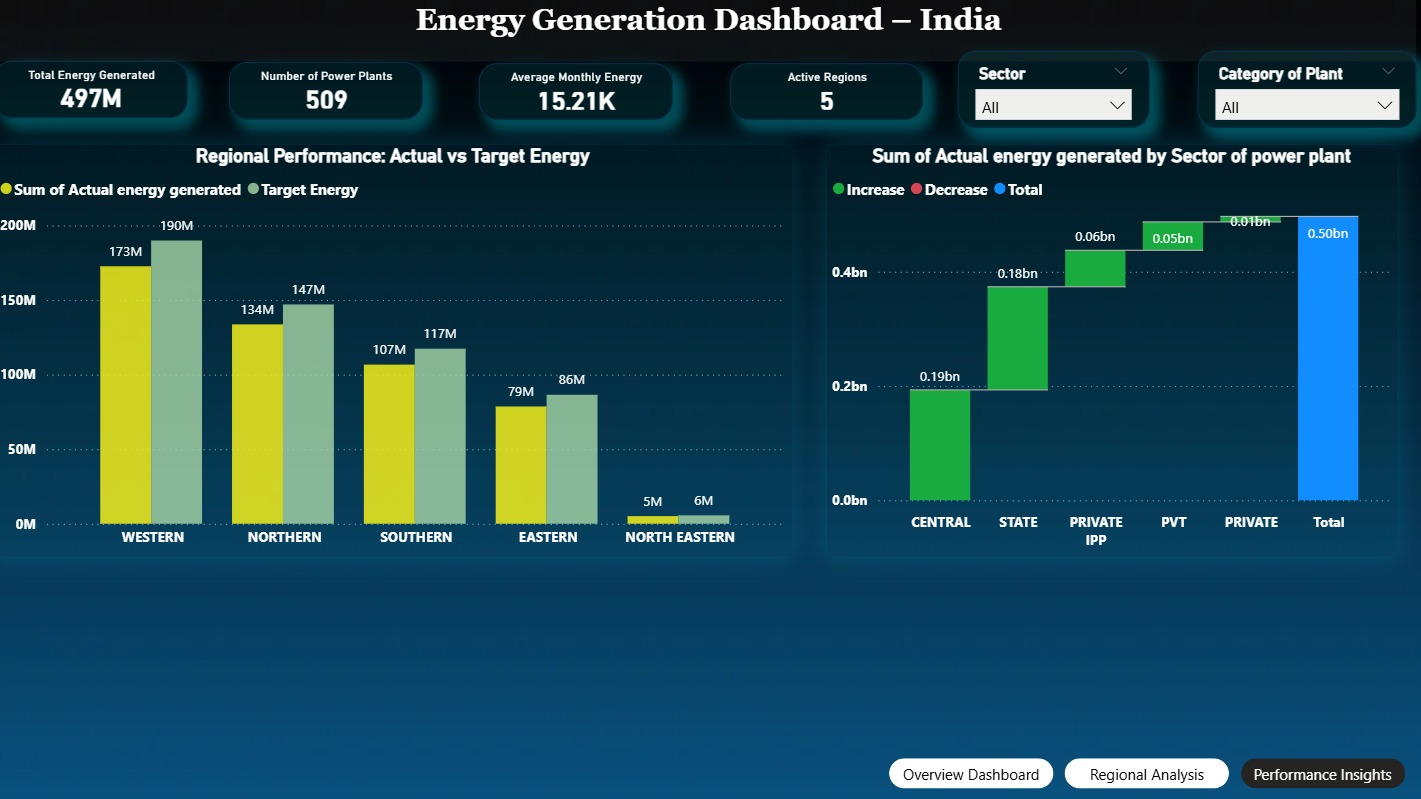

This screenshot's page, from the dashboard's own definition file:
{"tool":"powerbi","page":{"name":"Performance Insights","canvas":[1280,720],"ordinal":2},"visuals":[{"type":"card","title":"Total Energy Generated","fields":{"Values":["govdataset.Total Energy"]},"box":[0,56.9,173.1,51.4],"z":0},{"type":"card","title":"Average Monthly Energy","fields":{"Values":["govdataset.Avg Monthly Energy"]},"box":[433,59.7,173.2,50.3],"z":1000},{"type":"card","title":"Number of Power Plants","fields":{"Values":["govdataset.Total Plants"]},"box":[209.5,58.5,173.2,51.5],"z":2000},{"type":"card","title":"Active Regions","fields":{"Values":["govdataset.Active Regions"]},"box":[657.7,59.7,172,50.3],"z":3000},{"type":"textbox","box":[0,0,1270.4,57.5],"z":4000},{"type":"slicer","fields":{"Values":["govdataset.Sector of power plant"]},"box":[861.3,48,170.9,69],"z":5000},{"type":"slicer","fields":{"Values":["govdataset.Category of Plant"]},"box":[1075.4,48,195.4,69],"z":6000},{"type":"clusteredColumnChart","title":"Regional Performance: Actual vs Target Energy","fields":{"Category":["govdataset.Region"],"Y":["Sum(govdataset.Actual energy generated)","govdataset.Target Energy"]},"box":[0,131.7,712.4,368.7],"z":7000},{"type":"waterfallChart","fields":{"Category":["govdataset.Sector of power plant"],"Y":["Sum(govdataset.Actual energy generated)"]},"box":[744,131.7,509.6,368.7],"z":7001},{"type":"pageNavigator","box":[799.5,680,463.4,27.9],"z":7002}]}

Visuals, with their boxes in screenshot pixels (x1, y1, x2, y2), scaled from the page's 1280x720 canvas onto the 1421x799 screenshot:
"Total Energy Generated" card: crop(0, 63, 192, 120)
"Average Monthly Energy" card: crop(481, 66, 673, 122)
"Number of Power Plants" card: crop(233, 65, 425, 122)
"Active Regions" card: crop(730, 66, 921, 122)
textbox: crop(0, 0, 1410, 64)
slicer - govdataset.Sector of power plant: crop(956, 53, 1146, 130)
slicer - govdataset.Category of Plant: crop(1194, 53, 1411, 130)
"Regional Performance: Actual vs Target Energy" clusteredColumnChart: crop(0, 146, 791, 555)
waterfallChart - govdataset.Sector of power plant x Sum(govdataset.Actual energy generated): crop(826, 146, 1392, 555)
pageNavigator: crop(888, 755, 1402, 786)
